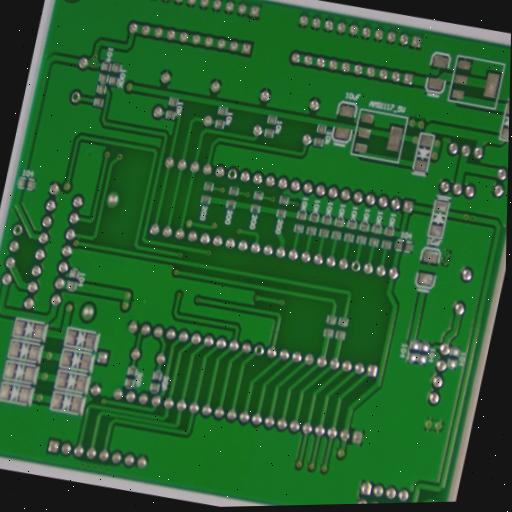missing_hole: (224, 167, 240, 183), (349, 259, 363, 276), (252, 342, 266, 359), (69, 90, 83, 106), (11, 222, 23, 239)
